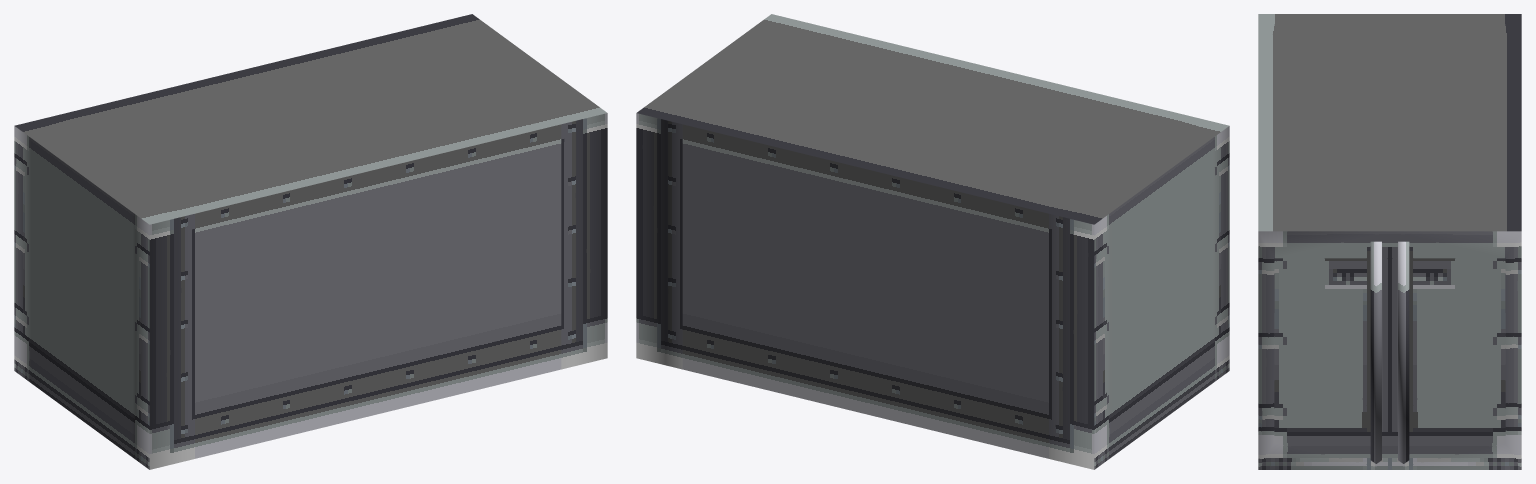
The picture shows the model from 3 angles, left to right: view 1: azimuth 30°, elevation 25°; view 2: azimuth 150°, elevation 25°; view 3: azimuth 270°, elevation 25°; orthographic projection. The views are drawn at different scales.
Visible parts, largest first — view 1: 3298IMIG07_02; view 2: 3298IMIG07_02; view 3: 3298IMIG07_02.
Boxes of the visible parts, x1,y1,x2,y2 form: 3298IMIG07_02: (14,14,607,469); 3298IMIG07_02: (636,14,1229,469); 3298IMIG07_02: (1258,14,1521,469).
Bounding box in the file's own units: 1.79 × 0.8999 × 0.8999.
Materials: 3 (3 with a texture image).
